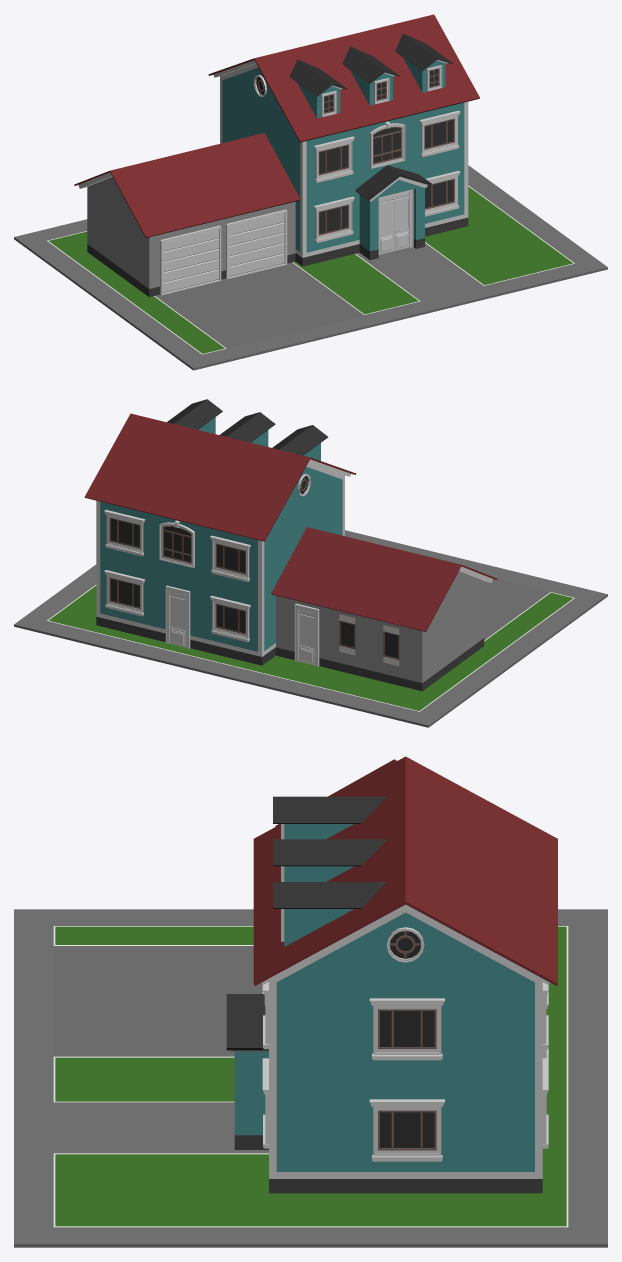
File: house-10.glb
The picture shows the model from 3 angles, top to bottom: view 1: azimuth 30°, elevation 25°; view 2: azimuth 150°, elevation 25°; view 3: azimuth 270°, elevation 25°; orthographic projection. The views are drawn at different scales.
Visible parts, largest first — view 1: house_10; view 2: house_10; view 3: house_10.
Part boxes in pixels (x1,y1,x2,y2): house_10: (14, 14, 607, 370); house_10: (14, 399, 607, 727); house_10: (14, 756, 607, 1247).
Size of the model in its own units: 20 by 8.41 by 15.
1 material, 1 textured.
